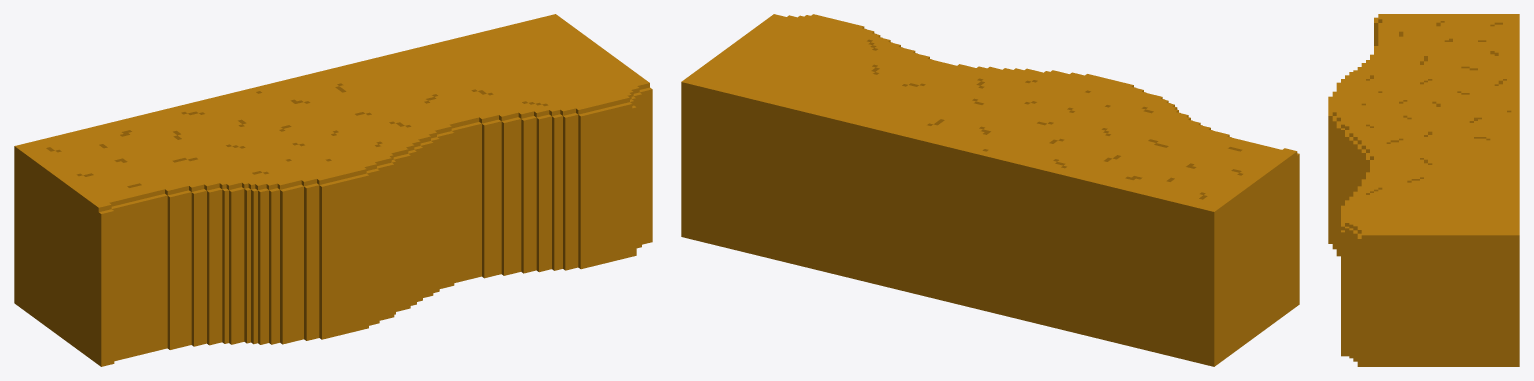
Rendered from CanyonPlatform.obj.
3 views of the same model, side by side, from view 1: azimuth 30°, elevation 25°; view 2: azimuth 150°, elevation 25°; view 3: azimuth 270°, elevation 25° (orthographic). The views are drawn at different scales.
Size of the model in its own units: 126 by 35 by 46.
